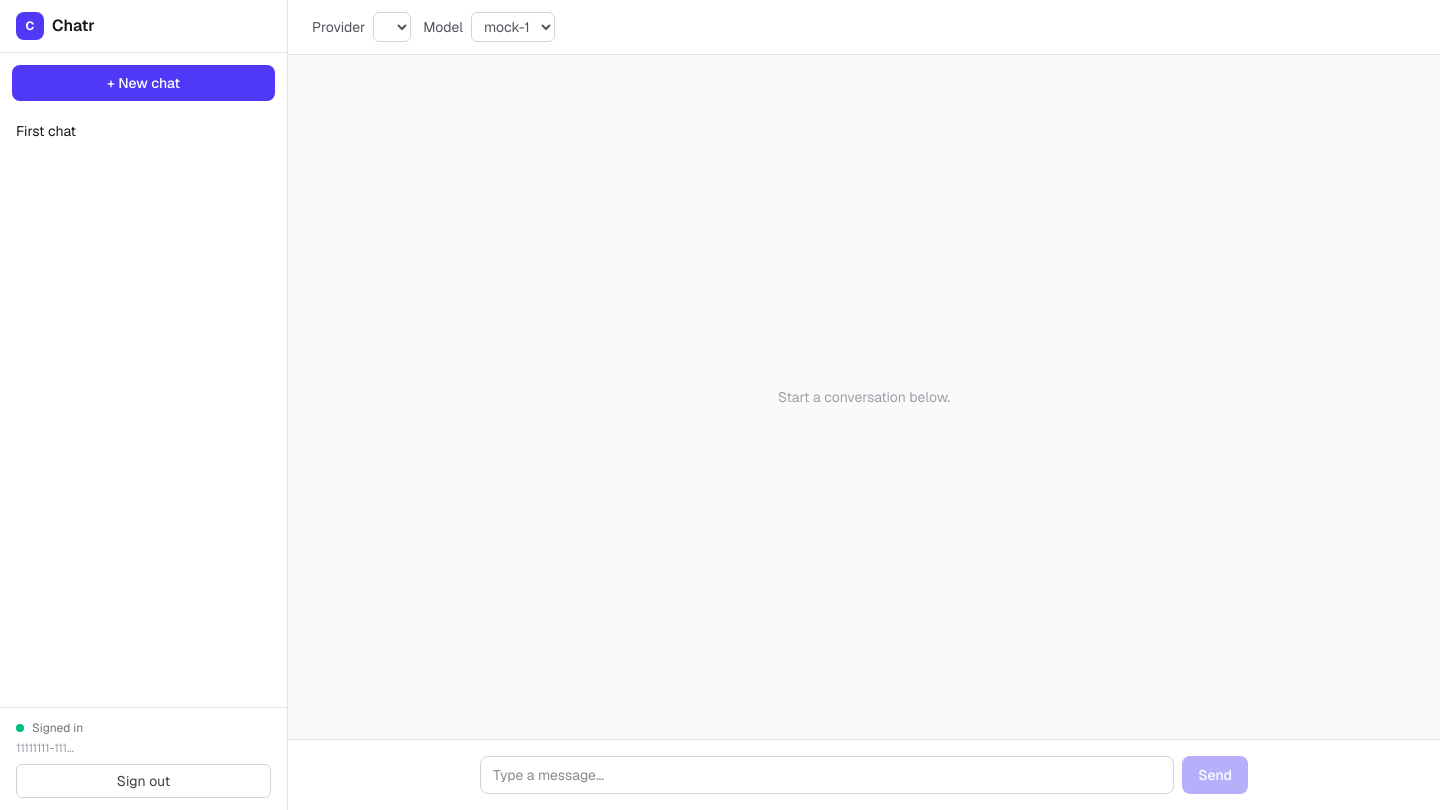
ChatWorkspace › sends a message and renders the streamed reply plus a new conversation
Type "hello world" into the text box with placeholder "Type a message…" at {"x": 827, "y": 775}, box [480,756,1174,794]
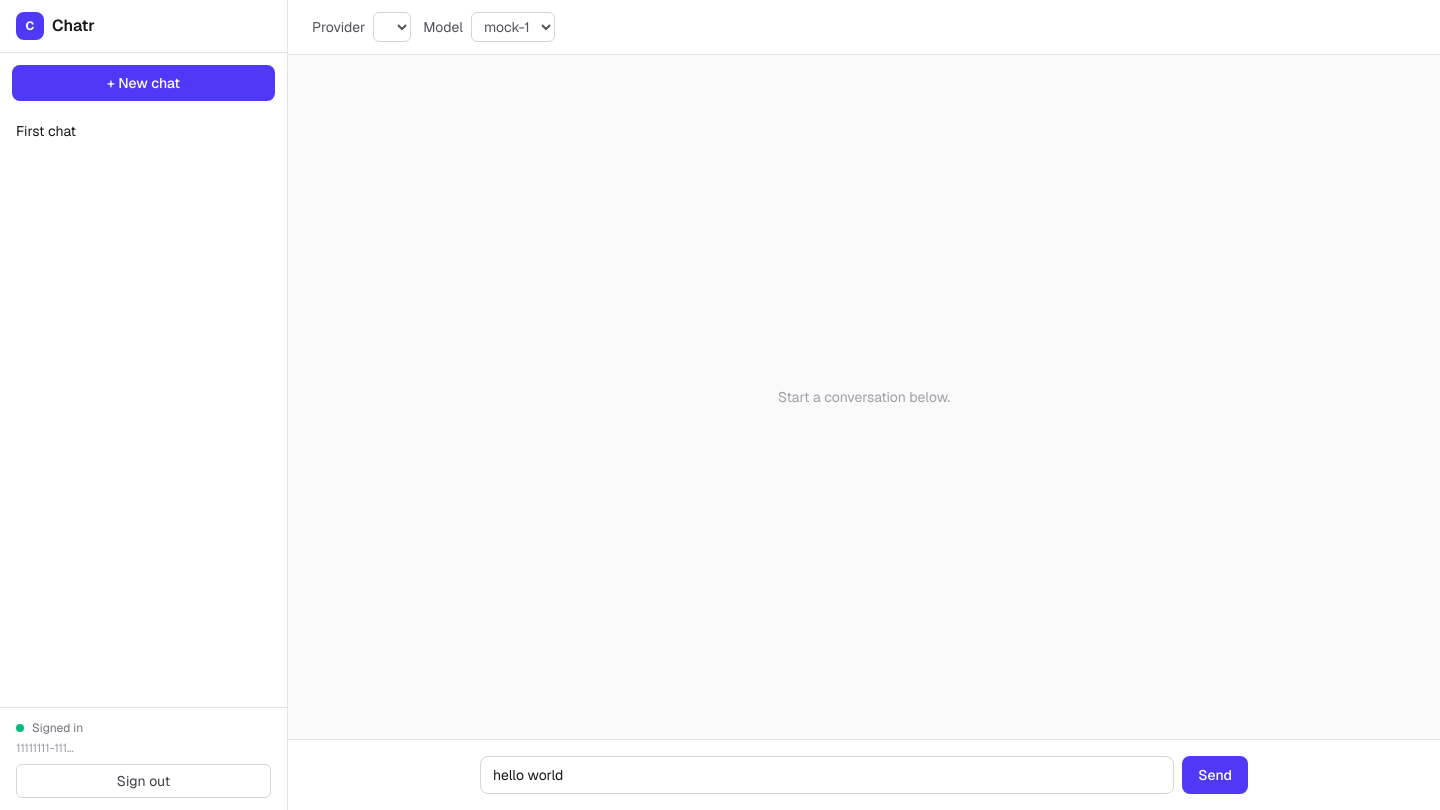
Click the button "Send" at {"x": 1215, "y": 775}, box [1182,756,1248,794]
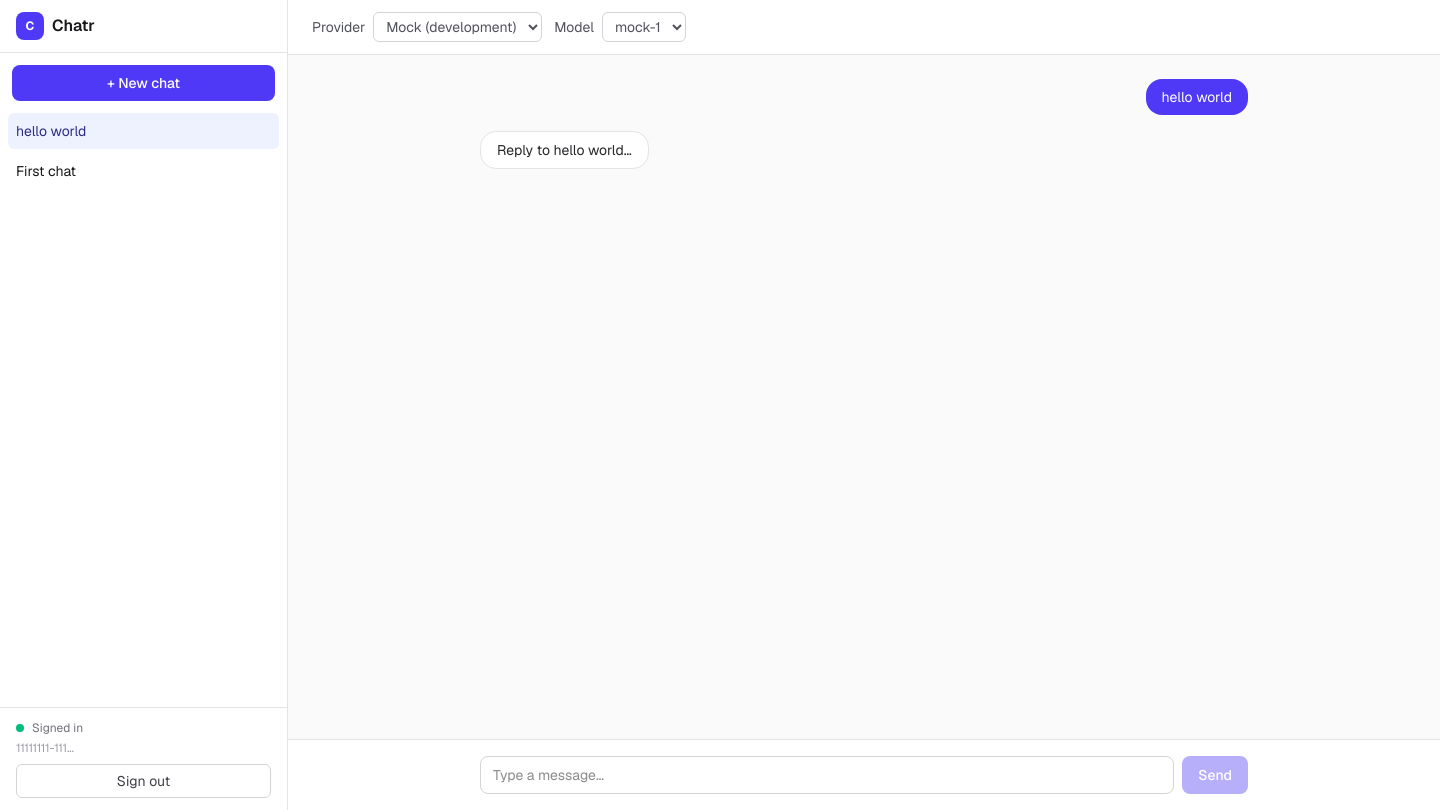
Expected: the 1st text "hello world" is shown, [1146,79,1248,115]
Expected: the text "Reply to hello world…" is shown, [480,131,649,169]
Expected: the text "hello world" is shown 2 times, [16,122,86,140]; [1146,79,1248,115]
